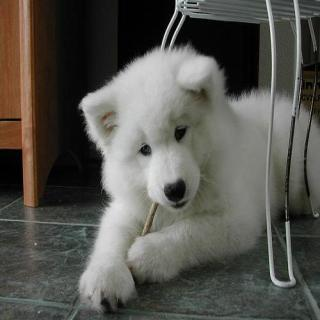dog: (75, 49, 231, 222)
nose: (162, 177, 192, 206)
